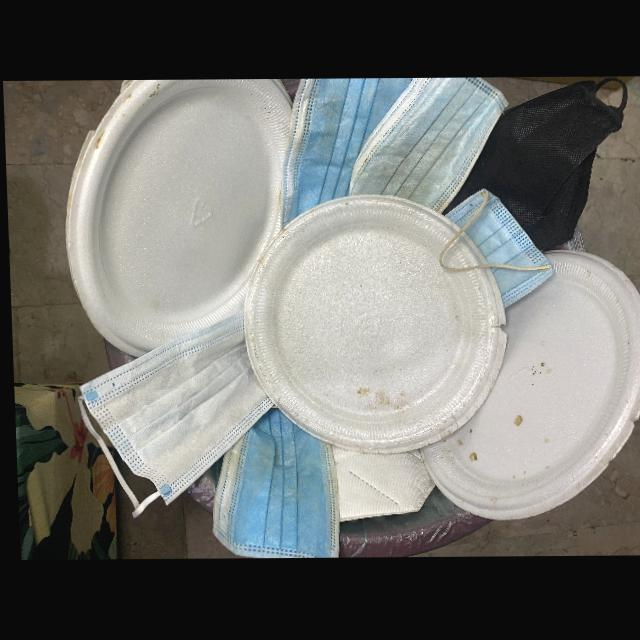styrofoam: (240, 195, 506, 455), (62, 78, 293, 359), (410, 250, 640, 523)
